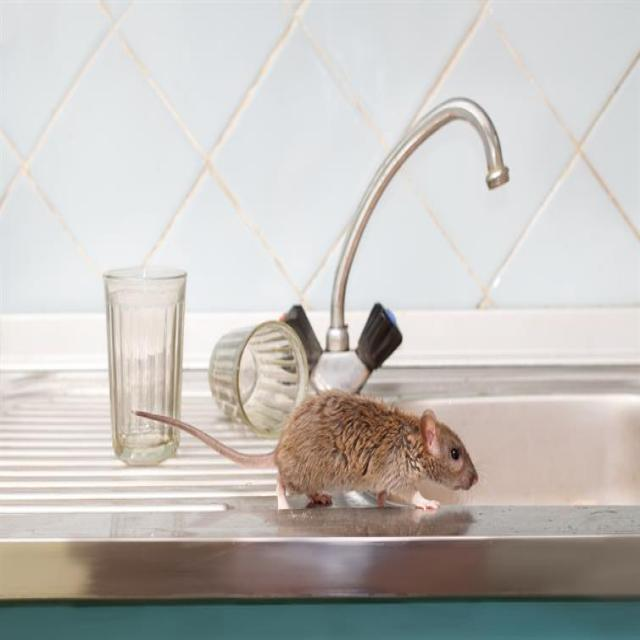rat: (252, 387, 493, 519)
